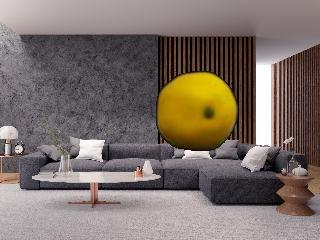lemon: (158, 71, 237, 149)
